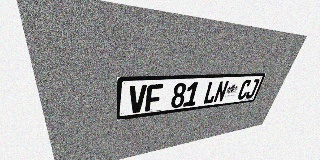1: (183, 82, 200, 107)
8: (170, 83, 188, 108)
C: (236, 79, 252, 100)
F: (145, 84, 163, 112)
J: (244, 79, 260, 99)
L: (202, 81, 219, 104)
N: (213, 81, 229, 103)
V: (128, 85, 147, 114)
